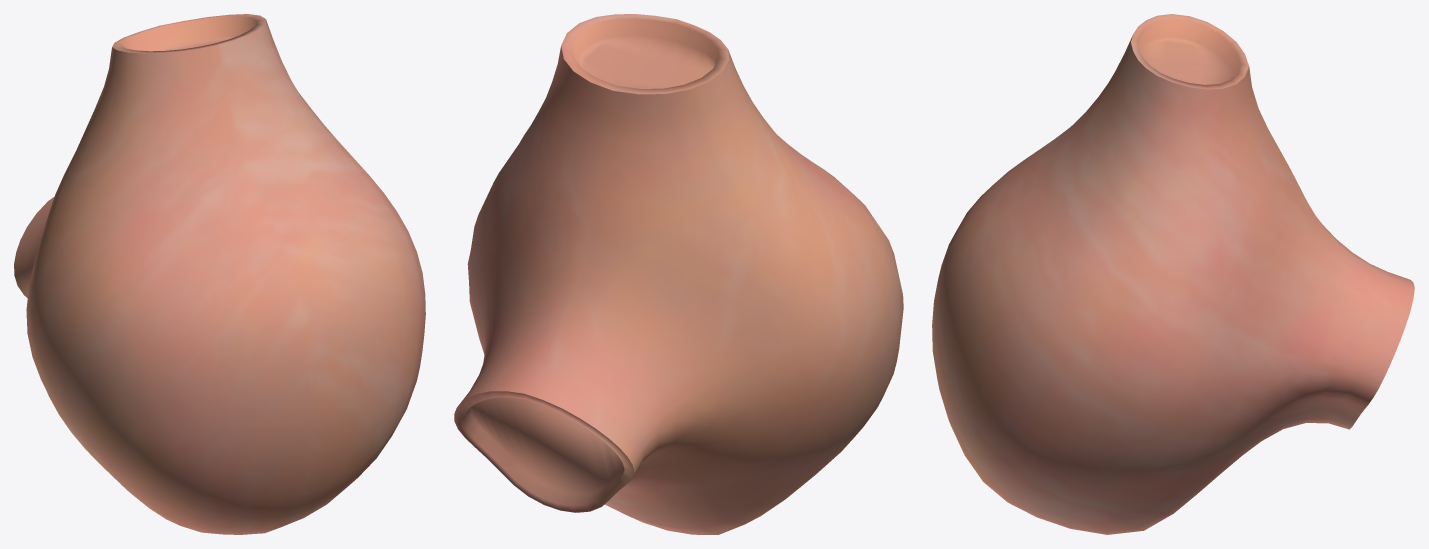
File: Crop.fbx
3 views of the same model, side by side, from view 1: azimuth 30°, elevation 25°; view 2: azimuth 150°, elevation 25°; view 3: azimuth 270°, elevation 25° (orthographic). The views are drawn at different scales.
Visible parts, largest first — view 1: Crop_LOD0; view 2: Crop_LOD0; view 3: Crop_LOD0.
Boxes of the visible parts, box(x1,y1,x2,y2) form: Crop_LOD0: box(14, 14, 425, 534); Crop_LOD0: box(454, 14, 903, 534); Crop_LOD0: box(932, 14, 1414, 534).
Size of what is drawn, in the model's own units: 0.1795 by 0.2293 by 0.2094.
1 material, 1 textured.
